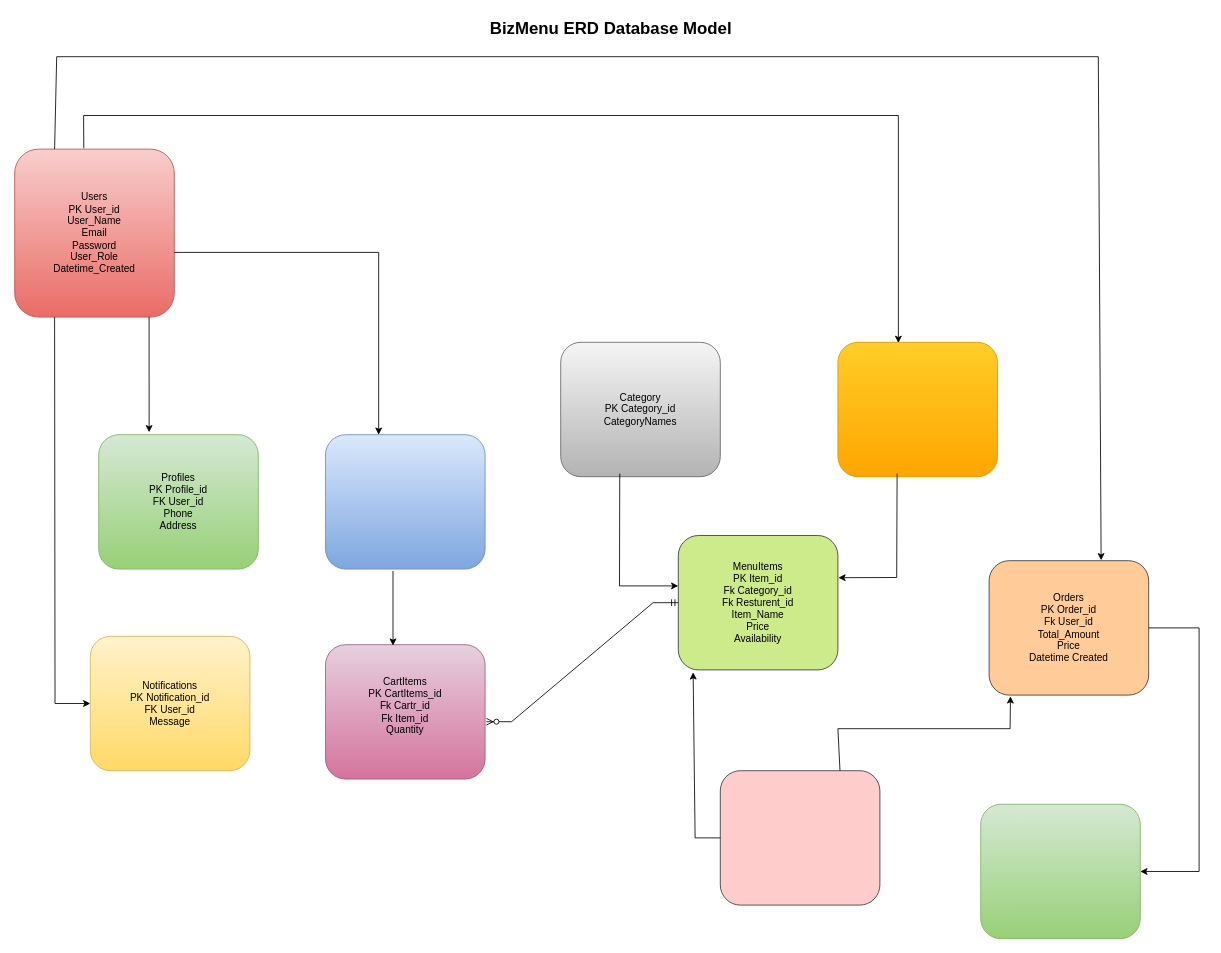
This 1221x953 diagram has some shape labels left out. The centre of each missing label's shape, as x and y in pixels:
"Cart PK Cart_id FK User_id Datetime Created" goes at (x=405, y=501).
"OrderItems PK OrderItems_id Fk Order_id Fk Item_id Quantity Price" goes at (x=799, y=837).
"Payments PK Payment_id FK order_id Paymenr_Method Payment_Status" goes at (x=1060, y=871).
"Resturent PK Resturent_id Name Fk Owner_id" goes at (x=917, y=409).
